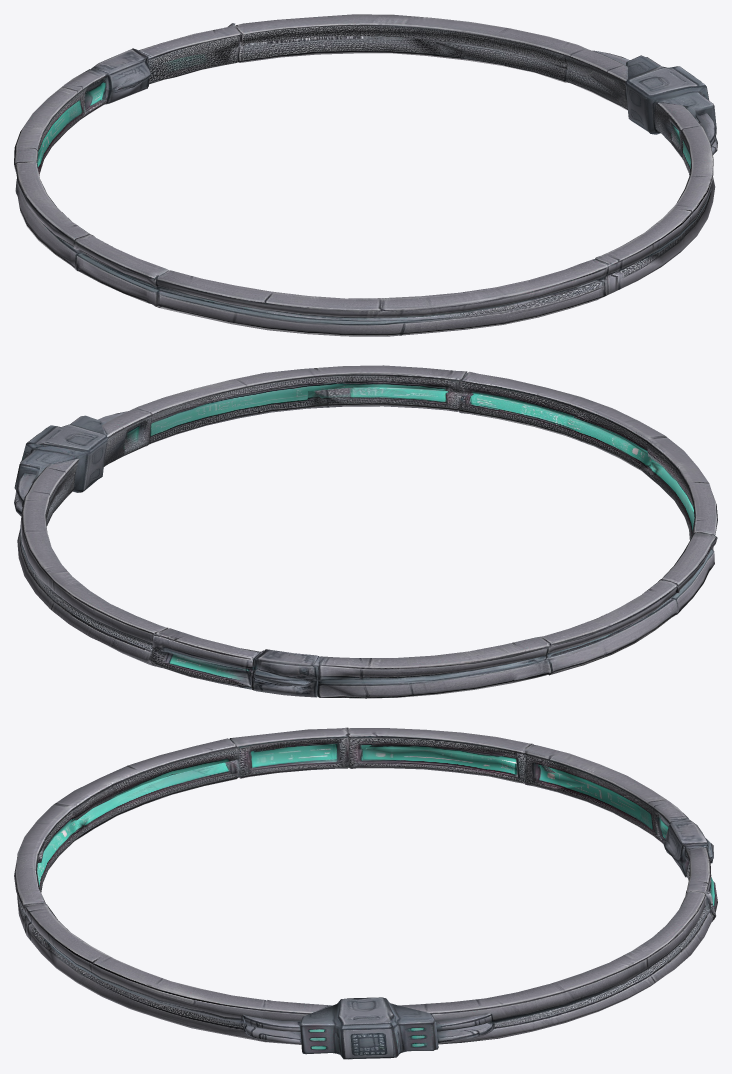
The model's file is ring.glb.
The picture shows the model from 3 angles, top to bottom: view 1: azimuth 30°, elevation 25°; view 2: azimuth 150°, elevation 25°; view 3: azimuth 270°, elevation 25°; orthographic projection.
Parts seen in each view (by area): view 1: ring; view 2: ring; view 3: ring.
Boxes of the visible parts, left/top/right/bottom form: ring: left=14, top=14, right=717, bottom=336; ring: left=14, top=365, right=717, bottom=698; ring: left=14, top=727, right=717, bottom=1059.
Size of the model in its own units: 0.7527 by 0.0492 by 0.7257.
1 material, 1 textured.
